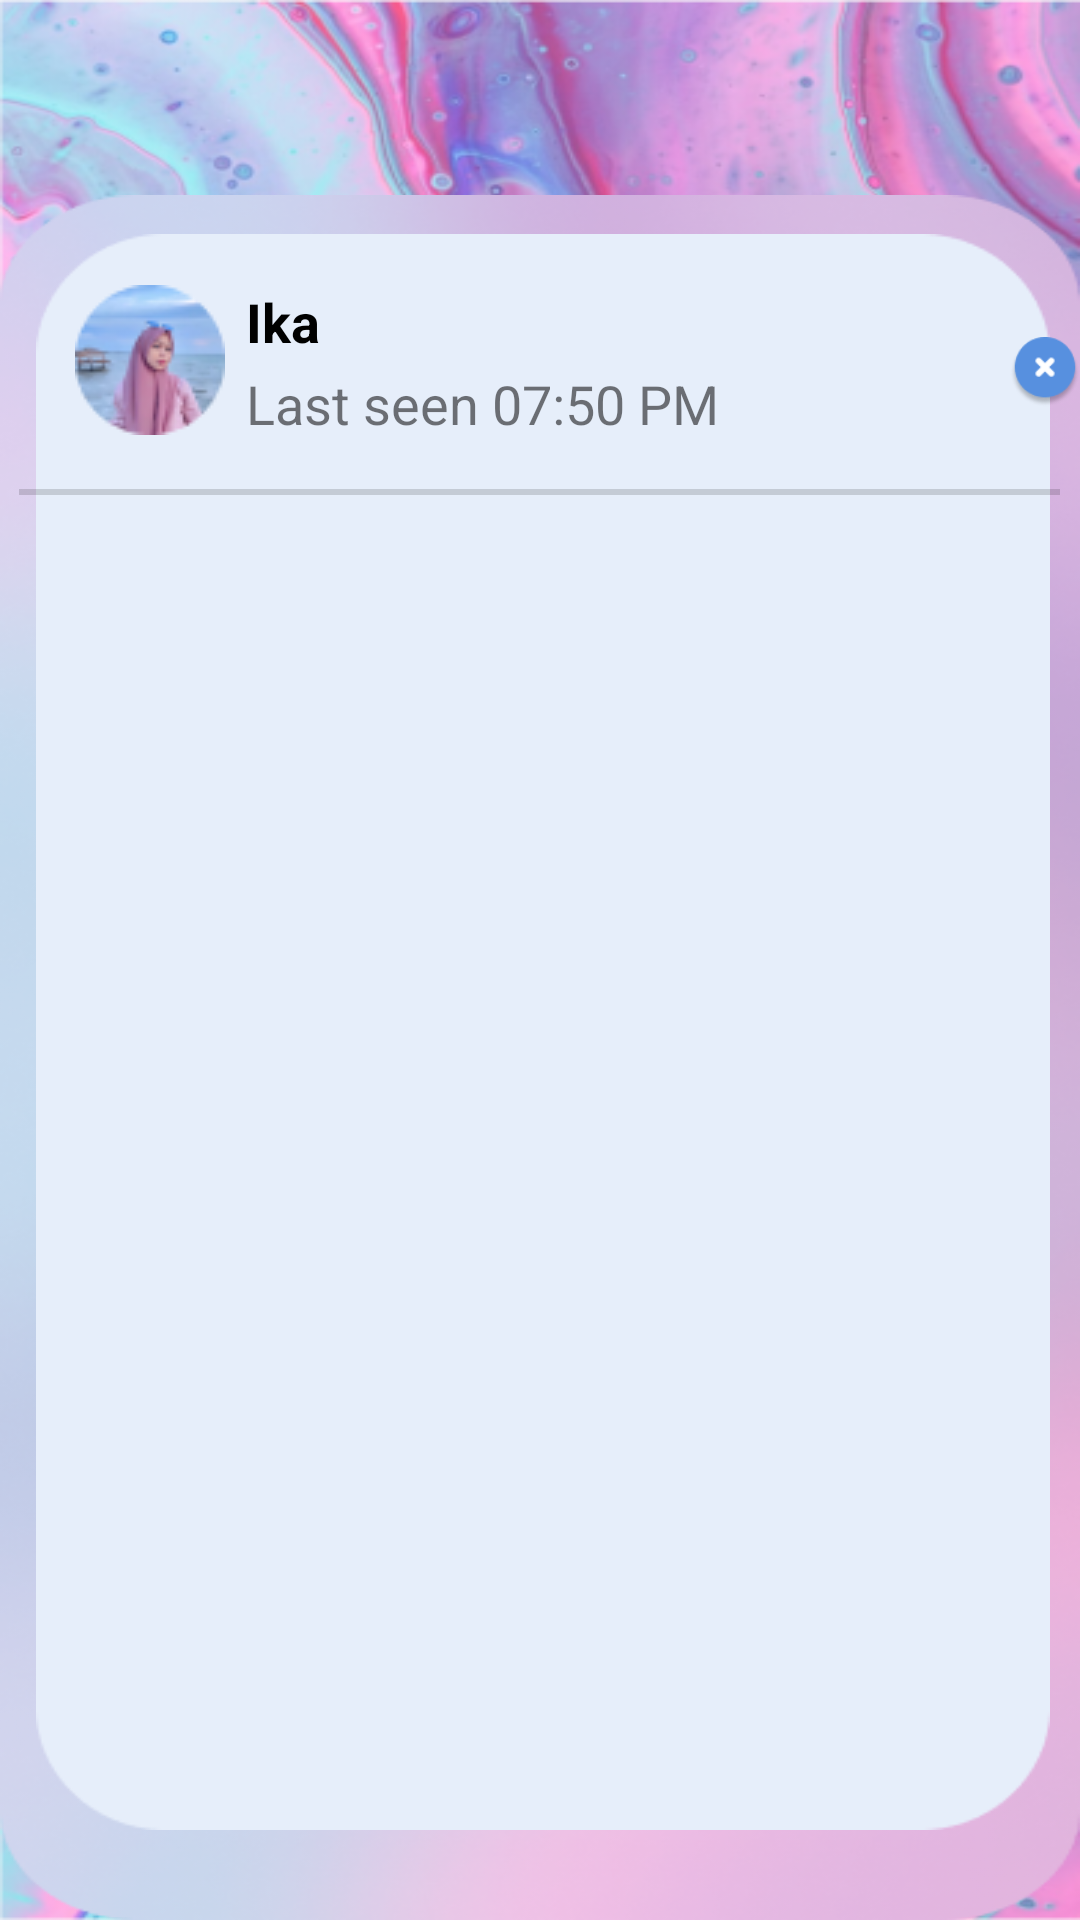

Icon click points for this 1080x1920 phone screenshot, format [x,y]:
chatprofil: [150,360]
